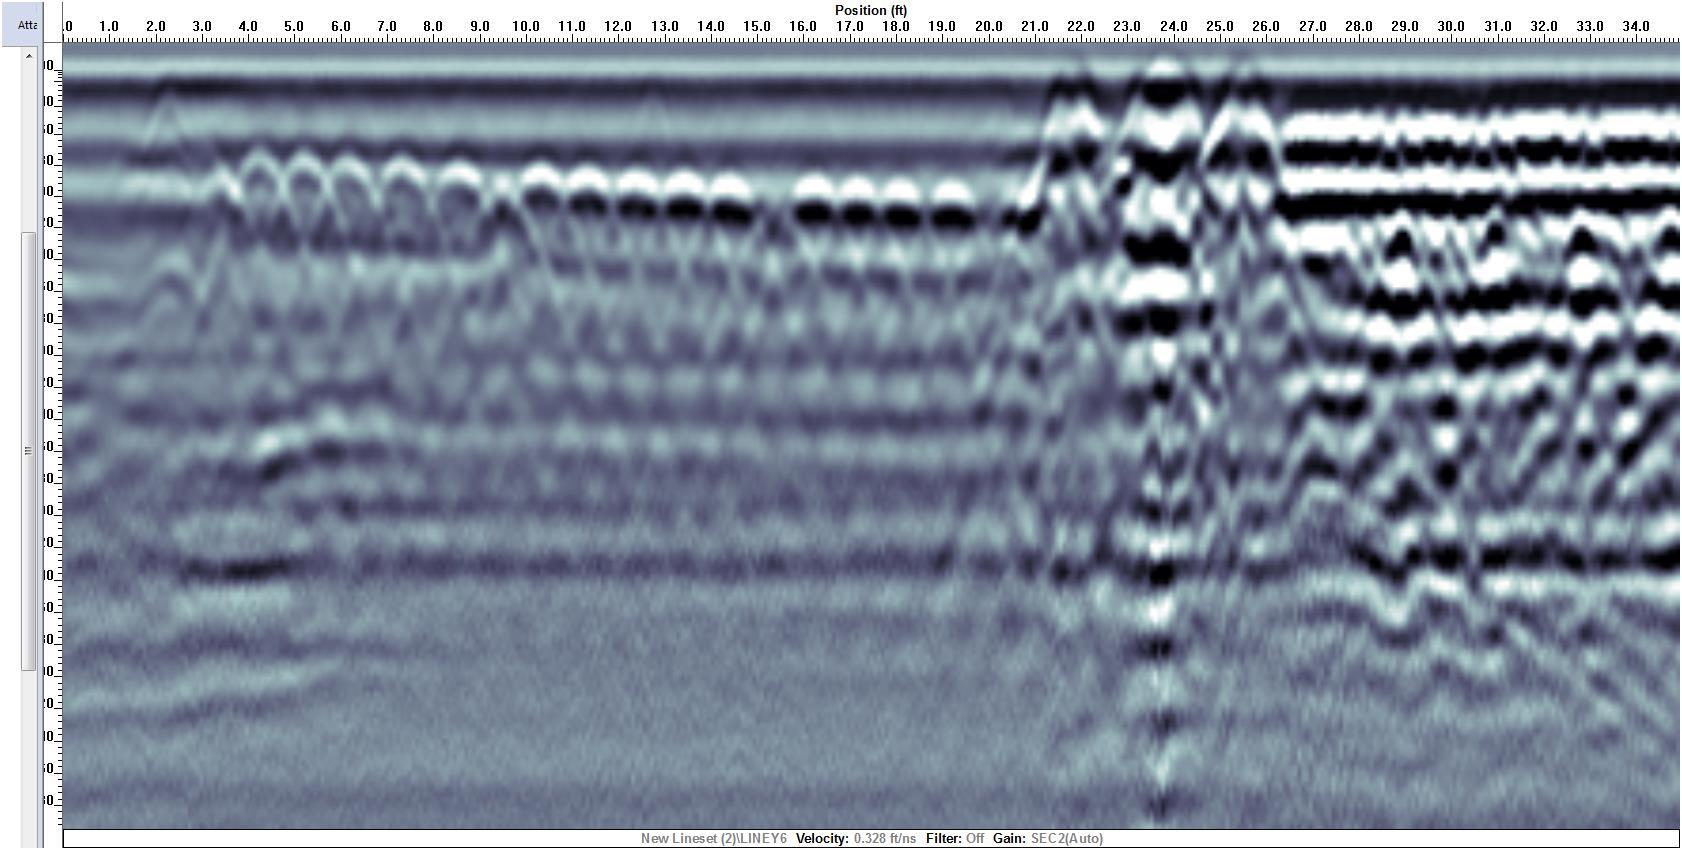hyperbola: (772, 166, 846, 305), (919, 164, 992, 300), (269, 139, 339, 271), (314, 147, 384, 256), (875, 165, 929, 295), (829, 166, 882, 295), (372, 152, 439, 247)
